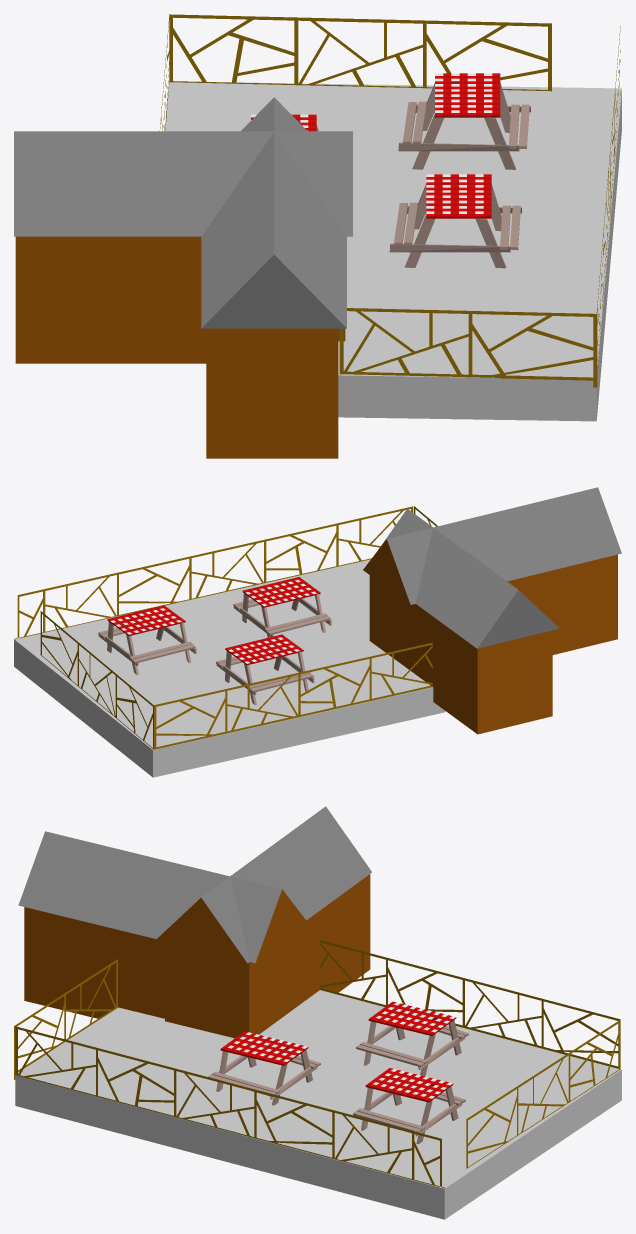
Rendered from Granary.gltf.
3 renders of one model, top to bottom at view 1: azimuth 30°, elevation 25°; view 2: azimuth 150°, elevation 25°; view 3: azimuth 270°, elevation 25°, orthographic. The views are drawn at different scales.
Parts seen in each view (by area): view 1: Mesh1 Group1 GR1 Model, Mesh51 Group5 Granary1 GR1 Model, Mesh47 Group3 Granary1 GR1 Model, Mesh49 Group4 Granary1 GR1 Model, Mesh45 Group2 Granary1 GR1 Model, Mesh118 GR1 Model, Mesh119 GR1 Model, Mesh53 Table2 GR1 Model, Mesh75 Table3 GR1 Model, Mesh77 Table3 GR1 Model, Mesh55 Table2 GR1 Model, Mesh3 Fence1 GR1 Model; view 2: Mesh1 Group1 GR1 Model, Mesh47 Group3 Granary1 GR1 Model, Mesh49 Group4 Granary1 GR1 Model, Mesh51 Group5 Granary1 GR1 Model, Mesh45 Group2 Granary1 GR1 Model, Mesh97 Fence2 GR1 Model, Mesh3 Fence1 GR1 Model, Mesh118 GR1 Model, Mesh23 Table1 GR1 Model, Mesh53 Table2 GR1 Model, Mesh75 Table3 GR1 Model, Mesh117 GR1 Model; view 3: Mesh1 Group1 GR1 Model, Mesh49 Group4 Granary1 GR1 Model, Mesh47 Group3 Granary1 GR1 Model, Mesh45 Group2 Granary1 GR1 Model, Mesh51 Group5 Granary1 GR1 Model, Mesh3 Fence1 GR1 Model, Mesh97 Fence2 GR1 Model, Mesh118 GR1 Model, Mesh75 Table3 GR1 Model, Mesh23 Table1 GR1 Model, Mesh53 Table2 GR1 Model, Mesh119 GR1 Model (+1 smaller).
Part boxes in pixels (box(x1,y1,x2,y2)): Mesh1 Group1 GR1 Model: box(164, 81, 621, 421); Mesh51 Group5 Granary1 GR1 Model: box(14, 131, 352, 236); Mesh47 Group3 Granary1 GR1 Model: box(15, 236, 345, 363); Mesh49 Group4 Granary1 GR1 Model: box(201, 97, 346, 328); Mesh45 Group2 Granary1 GR1 Model: box(206, 328, 338, 458); Mesh118 GR1 Model: box(169, 14, 551, 91); Mesh119 GR1 Model: box(339, 308, 597, 387); Mesh53 Table2 GR1 Model: box(426, 174, 491, 218); Mesh75 Table3 GR1 Model: box(435, 73, 500, 117); Mesh77 Table3 GR1 Model: box(398, 142, 519, 151); Mesh55 Table2 GR1 Model: box(389, 243, 510, 252); Mesh3 Fence1 GR1 Model: box(596, 102, 614, 369); Mesh1 Group1 GR1 Model: box(14, 559, 445, 777); Mesh47 Group3 Granary1 GR1 Model: box(369, 575, 552, 734); Mesh49 Group4 Granary1 GR1 Model: box(363, 487, 621, 604); Mesh51 Group5 Granary1 GR1 Model: box(380, 508, 559, 648); Mesh45 Group2 Granary1 GR1 Model: box(507, 554, 617, 654); Mesh97 Fence2 GR1 Model: box(154, 642, 432, 749); Mesh3 Fence1 GR1 Model: box(117, 506, 413, 616); Mesh118 GR1 Model: box(40, 611, 153, 749); Mesh23 Table1 GR1 Model: box(225, 634, 303, 665); Mesh53 Table2 GR1 Model: box(242, 577, 320, 607); Mesh75 Table3 GR1 Model: box(107, 605, 185, 635); Mesh117 GR1 Model: box(14, 573, 118, 639); Mesh1 Group1 GR1 Model: box(15, 990, 621, 1219); Mesh49 Group4 Granary1 GR1 Model: box(18, 831, 308, 963); Mesh47 Group3 Granary1 GR1 Model: box(165, 874, 370, 1038); Mesh45 Group2 Granary1 GR1 Model: box(24, 907, 164, 1018); Mesh51 Group5 Granary1 GR1 Model: box(155, 806, 371, 963); Mesh3 Fence1 GR1 Model: box(15, 1026, 334, 1158); Mesh97 Fence2 GR1 Model: box(320, 940, 620, 1068); Mesh118 GR1 Model: box(466, 1020, 620, 1168); Mesh75 Table3 GR1 Model: box(365, 1068, 453, 1102); Mesh23 Table1 GR1 Model: box(368, 1001, 456, 1035); Mesh53 Table2 GR1 Model: box(220, 1031, 308, 1065); Mesh119 GR1 Model: box(14, 959, 117, 1079).
Size of the model in its own units: 2242 by 673 by 2228.
